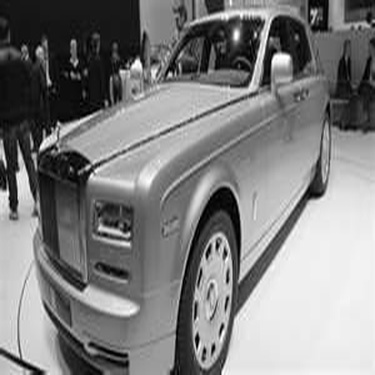car: (30, 2, 334, 373), (98, 36, 200, 107)
